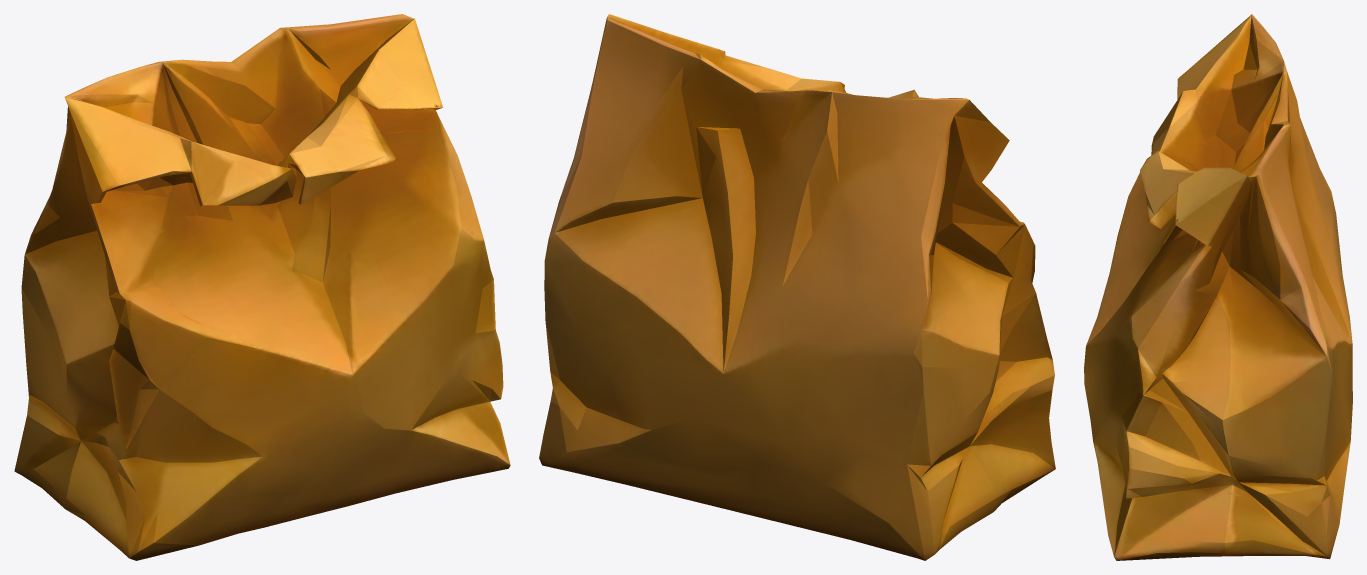
Rendered from bag.glb.
3 renders of one model, left to right at view 1: azimuth 30°, elevation 25°; view 2: azimuth 150°, elevation 25°; view 3: azimuth 270°, elevation 25°, orthographic. The views are drawn at different scales.
Parts seen in each view (by area): view 1: model; view 2: model; view 3: model.
Part boxes in pixels (x1=…): model: x1=14, y1=14, x2=510, y2=560; model: x1=539, y1=14, x2=1055, y2=560; model: x1=1084, y1=14, x2=1352, y2=560.
Bounding box in the file's own units: 1.9 × 1.9 × 1.21.
1 material, 1 textured.
